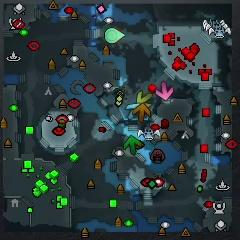p2: (105, 28, 125, 44)
x1: (156, 82, 173, 100)
x2: (137, 91, 152, 107)
x3: (126, 104, 141, 118)
x4: (124, 135, 141, 154)
x5: (132, 104, 151, 122)
